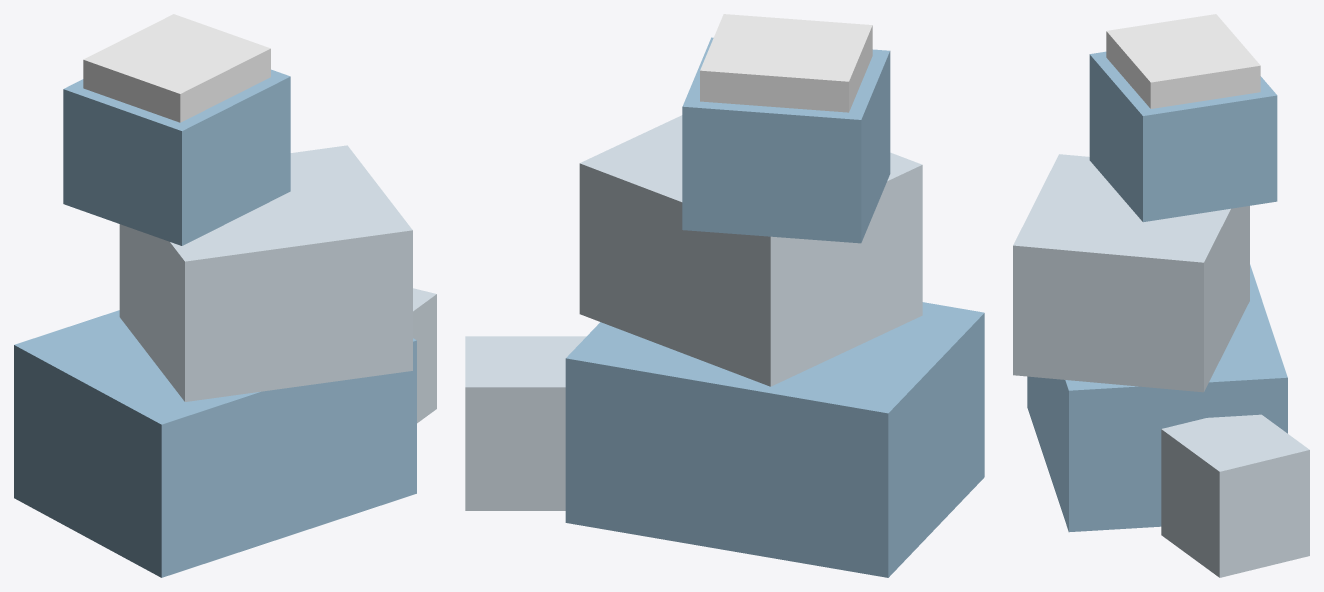
File: ice-block-stack.glb
3 views of the same model, side by side, from view 1: azimuth 30°, elevation 25°; view 2: azimuth 150°, elevation 25°; view 3: azimuth 270°, elevation 25° (orthographic). The views are drawn at different scales.
Parts seen in each view (by area): view 1: ice-ice-block-stack; view 2: ice-ice-block-stack; view 3: ice-ice-block-stack.
Boxes of the visible parts, x1=… form: ice-ice-block-stack: x1=14, y1=14, x2=436, y2=577; ice-ice-block-stack: x1=465, y1=14, x2=984, y2=577; ice-ice-block-stack: x1=1013, y1=14, x2=1309, y2=577.
Size of the model in its own units: 0.6694 by 0.685 by 0.4563.
